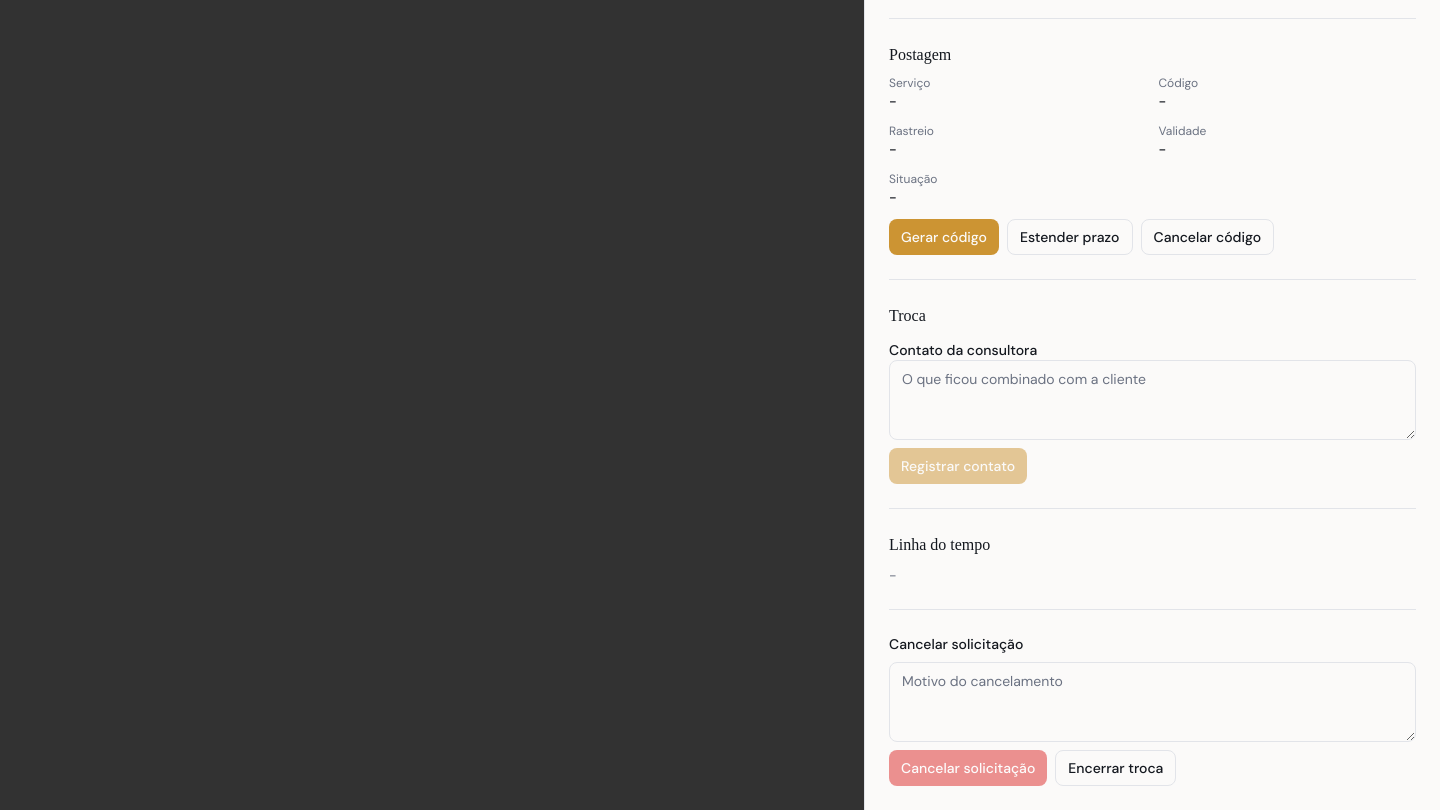
Test: regras de encerramento da troca › carrega motivos dinâmicos e encerra com detalhe, recarregando solicitação e lista
The width and height of the screenshot is (1440, 810).
(page scrolled)
Click the button "Encerrar troca" at coordinates (1116, 768), box [1055,750,1176,786]
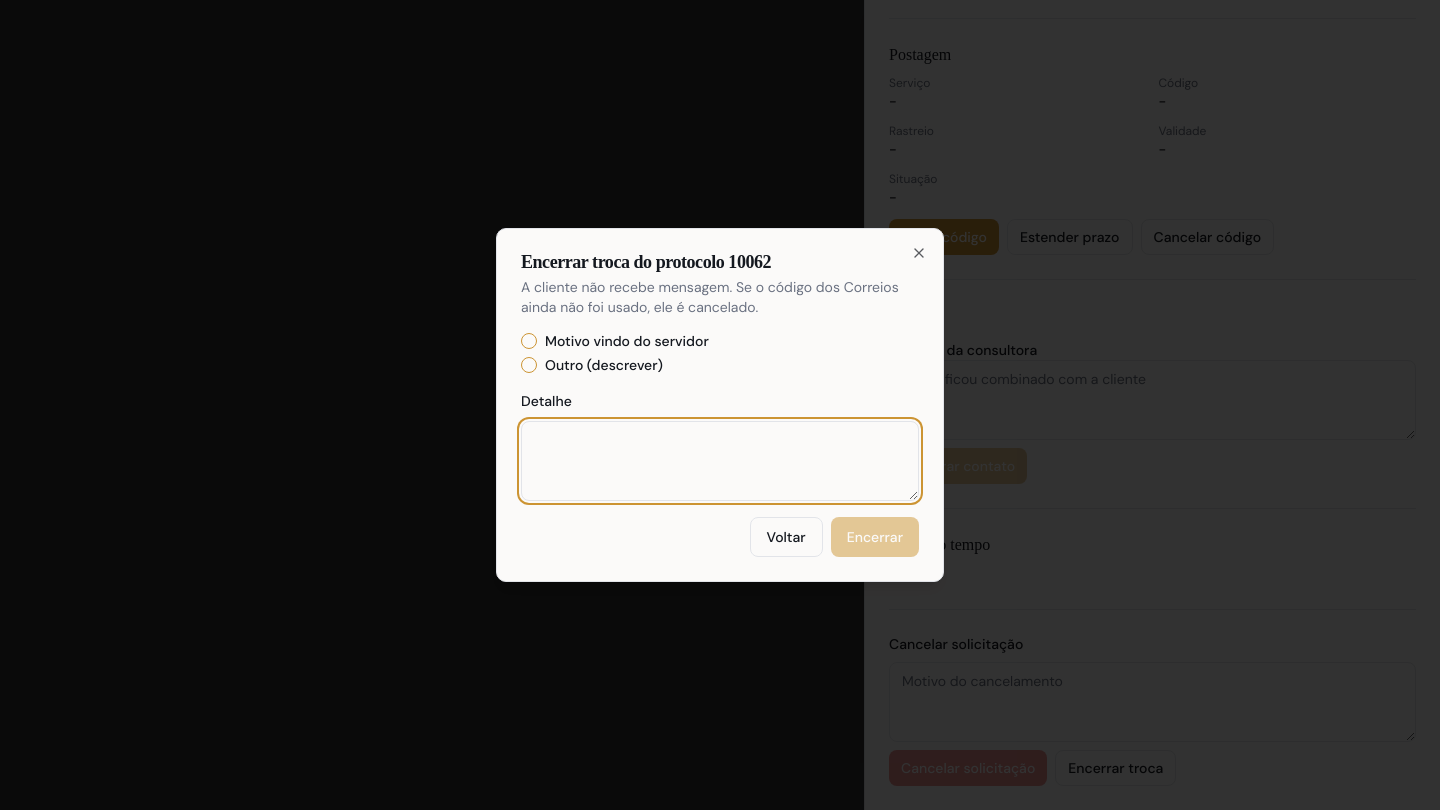
Now the radio button named "Outro (descrever)" next to "Outro (descrever)" is shown
Now the button "Encerrar" is disabled, box [831,517,919,557]
Click the radio button named "Outro (descrever)" next to "Outro (descrever)" at coordinates (529, 365), box [521,357,537,373]
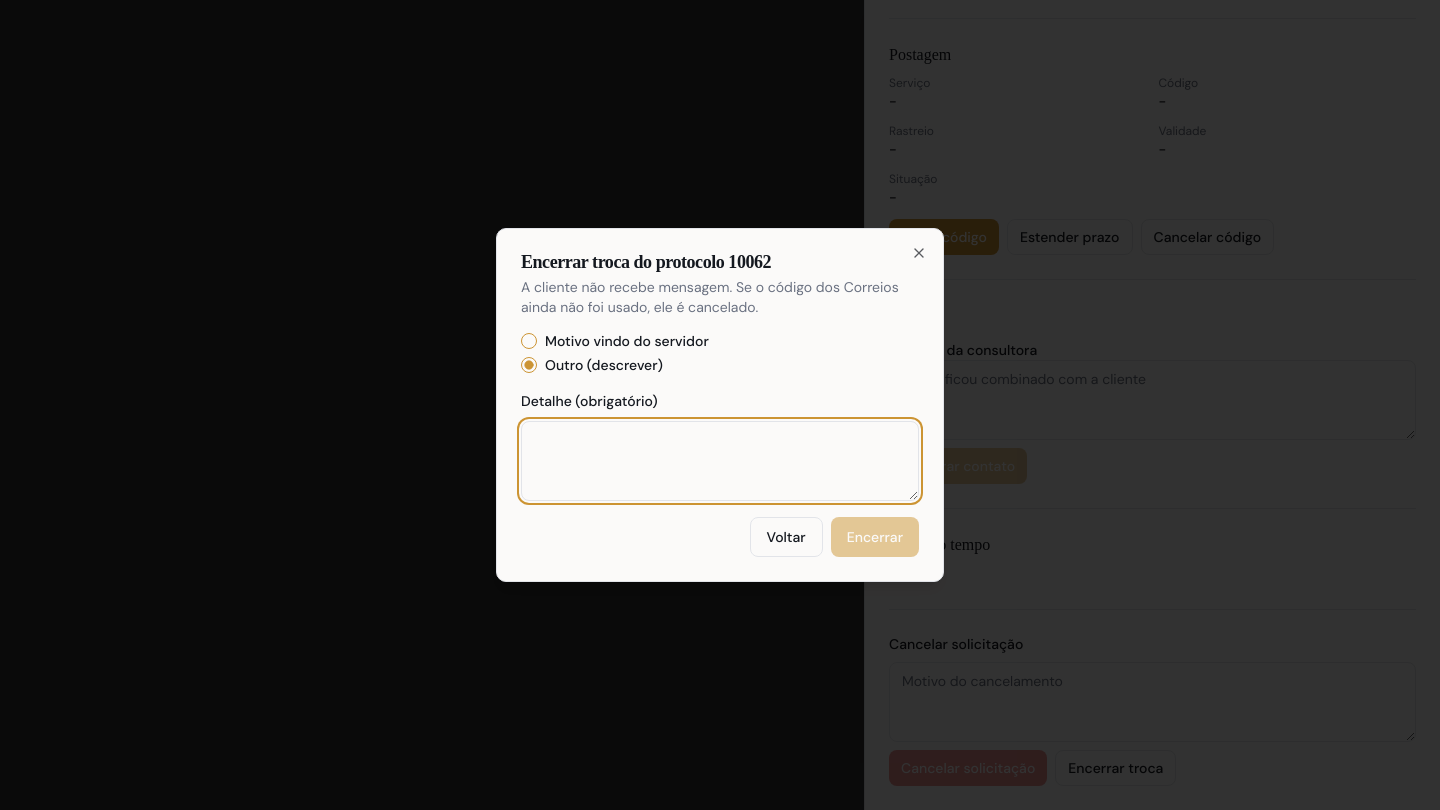
Now the button "Encerrar" is disabled, box [831,517,919,557]
Type "Resolvido" into the text box labelled "Detalhe (obrigatório)" at coordinates (720, 461), box [521,421,919,501]
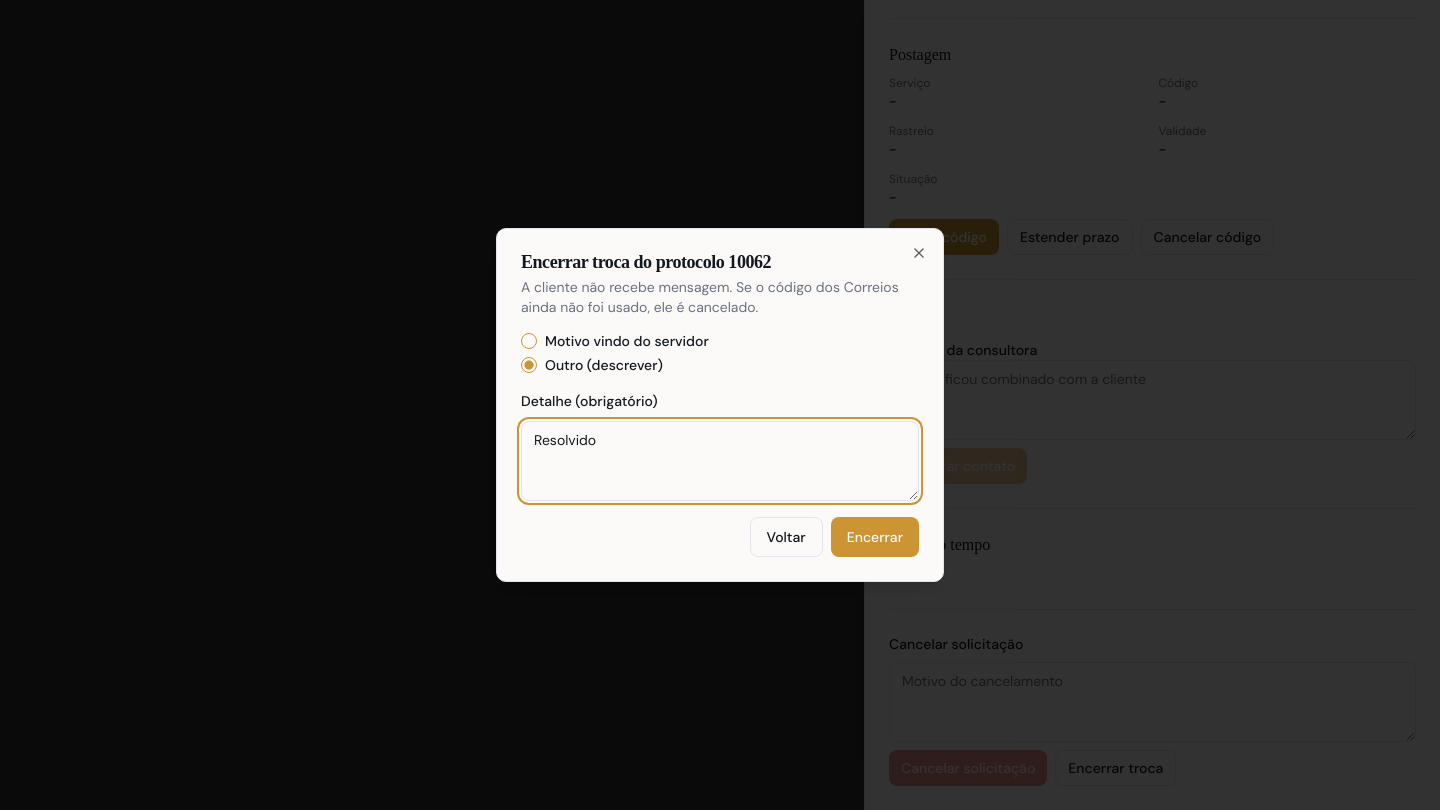
Click the button "Encerrar" at coordinates (875, 537), box [831,517,919,557]
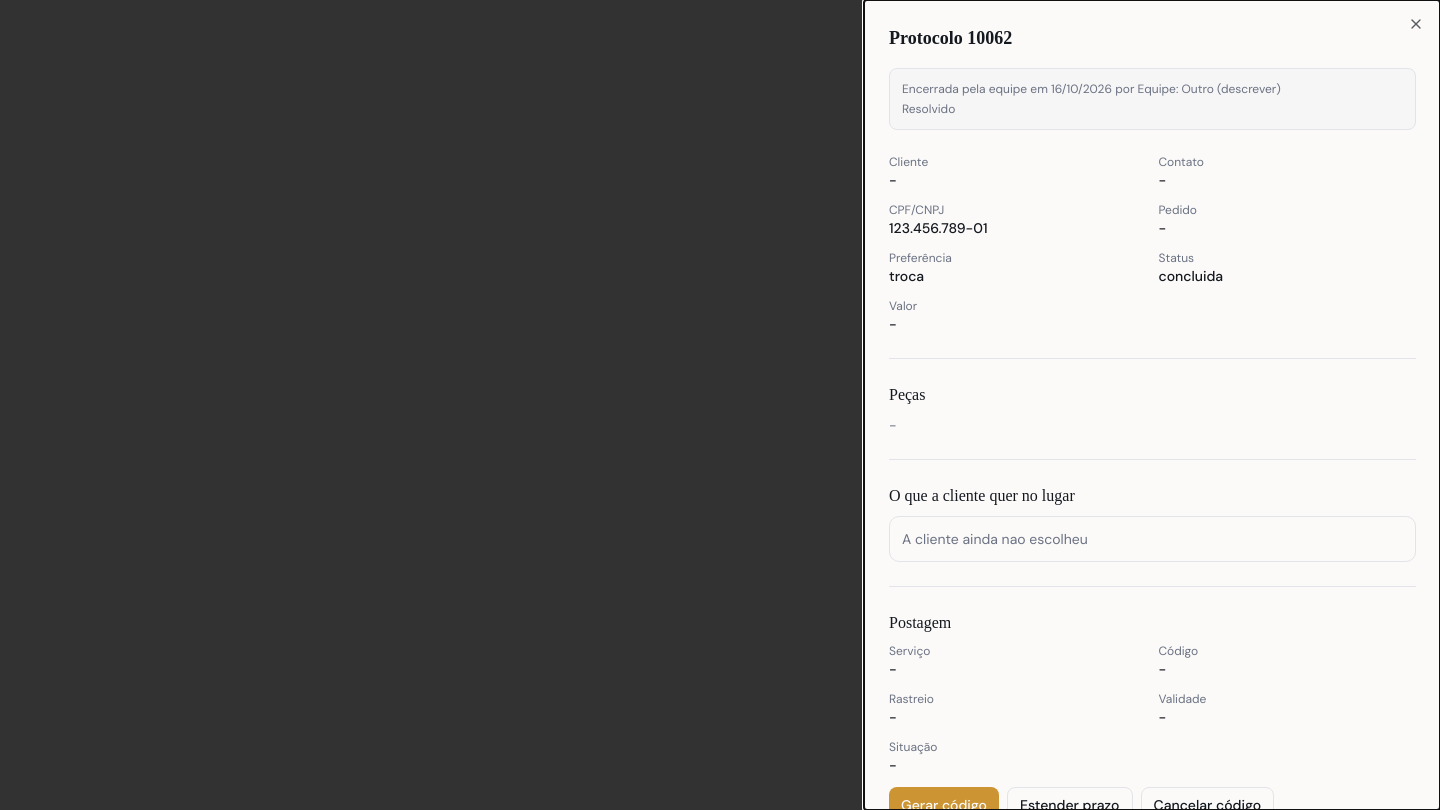
Now the button "Encerrar troca" is gone
Now the text "Resolvido" is shown, box [902,101,955,117]
